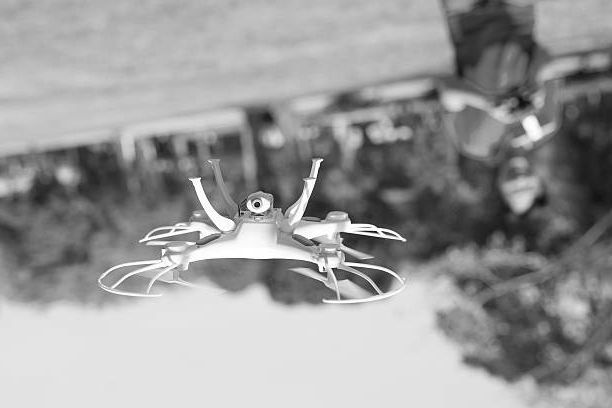Drone: (90, 148, 412, 304)
